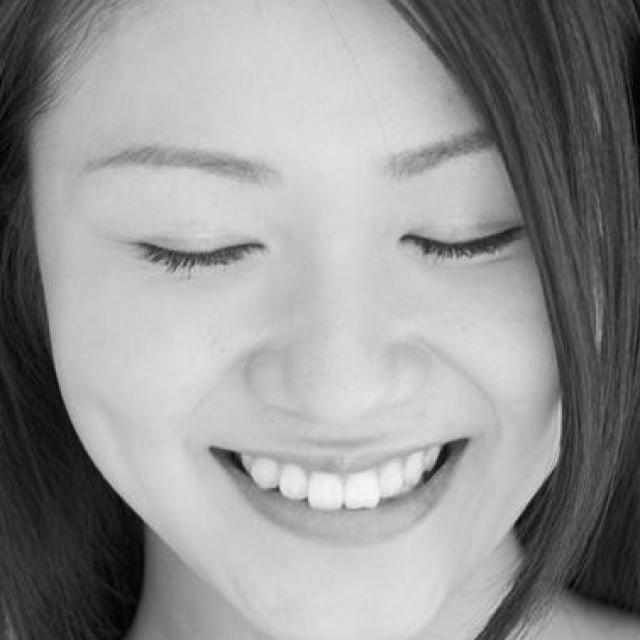real: (29, 0, 596, 635), (95, 180, 539, 290)
